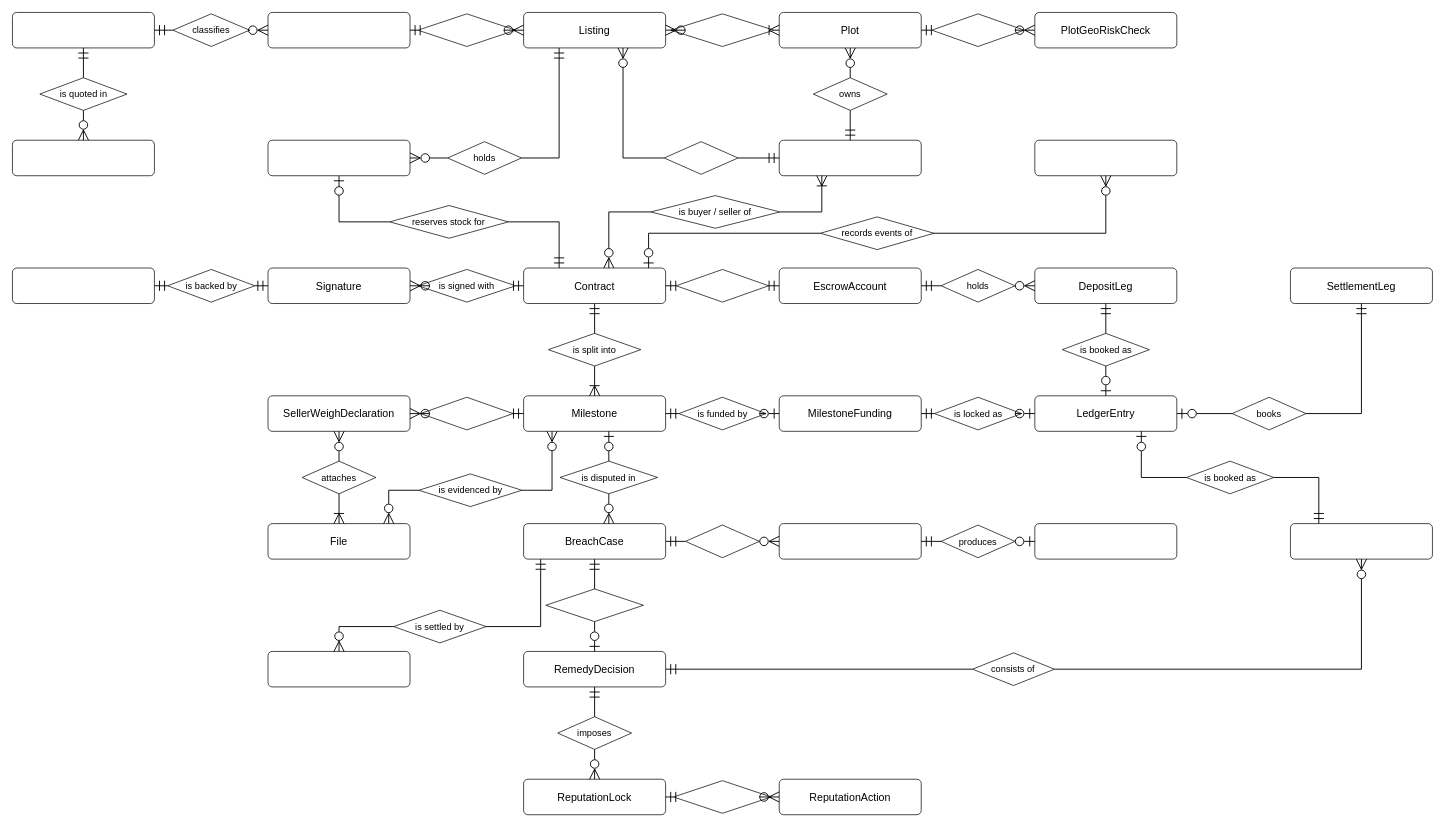
Some shapes in this 1445 by 827 pixel diagram are drawn without their labels. Here are the shapes that lost their labels. From the top down, the box of each, then its label:
(12, 12, 154, 48): Category
(267, 12, 410, 48): Product
(417, 13, 516, 47): is offered via
(670, 13, 774, 47): is sourced from
(931, 13, 1024, 47): is checked by
(12, 140, 154, 176): ReferencePrice
(267, 140, 410, 176): ListingReservation
(663, 141, 738, 174): publishes
(779, 140, 921, 176): User
(1034, 140, 1177, 176): AuditRecord
(12, 267, 154, 304): ConsentEvidence
(675, 269, 769, 302): is secured by
(420, 397, 513, 430): is weighed in
(685, 524, 759, 558): requests
(779, 523, 921, 559): InspectionAssignment
(1034, 523, 1177, 559): InspectionReport
(1290, 523, 1432, 559): RemedyLeg
(545, 588, 643, 622): is resolved by
(267, 651, 410, 687): DisputeSettlementProposal
(673, 780, 771, 813): is reviewed in
